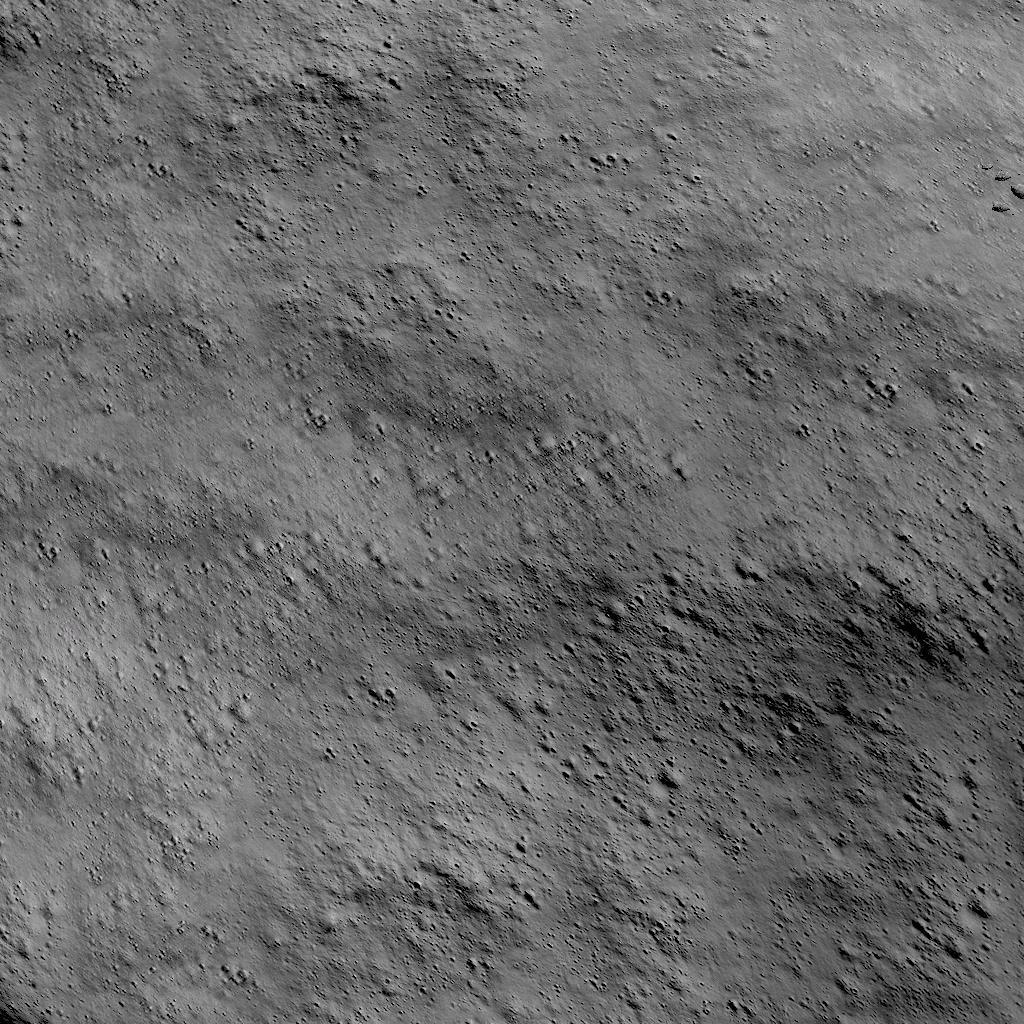Plan surface: (0, 232, 1024, 1024), (0, 0, 970, 218)
